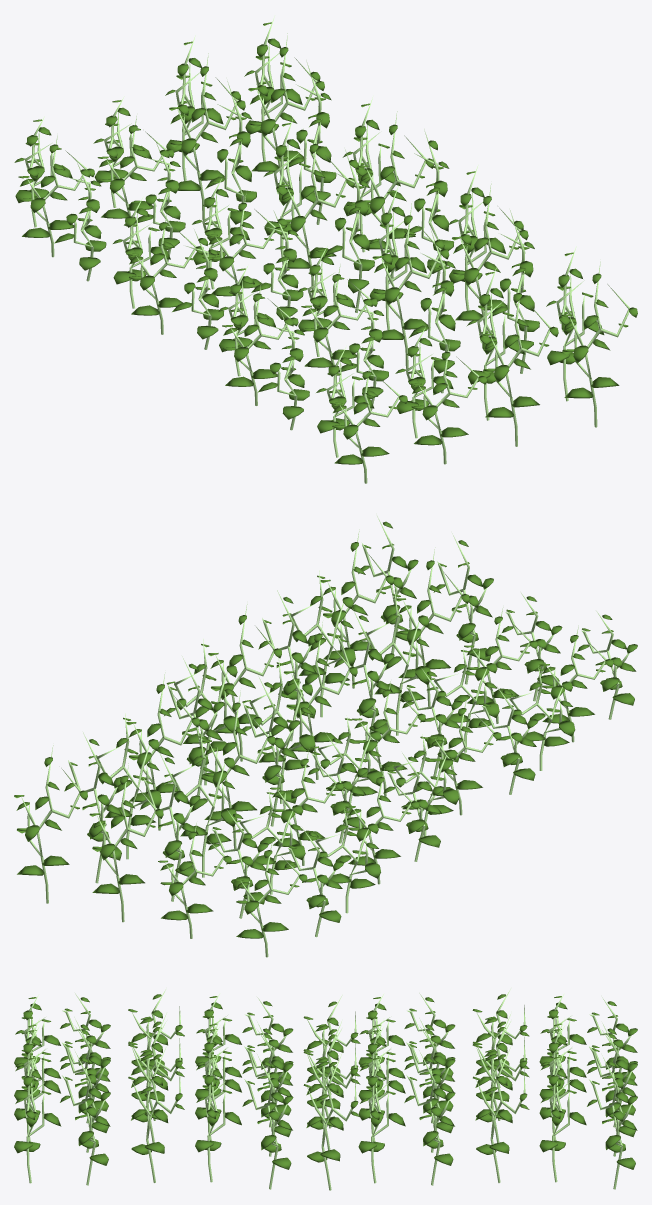
The model's file is Plants.fbx.
The picture shows the model from 3 angles, top to bottom: view 1: azimuth 30°, elevation 25°; view 2: azimuth 150°, elevation 25°; view 3: azimuth 270°, elevation 25°; orthographic projection. The views are drawn at different scales.
Visible parts, largest first — view 1: Greenhouse_PlantBox.007; view 2: Greenhouse_PlantBox.007; view 3: Greenhouse_PlantBox.007.
Boxes of the visible parts, bbox=[...] form: Greenhouse_PlantBox.007: bbox=[14, 16, 637, 483]; Greenhouse_PlantBox.007: bbox=[14, 516, 637, 957]; Greenhouse_PlantBox.007: bbox=[14, 989, 637, 1190].
Size of the model in its own units: 126 by 62.85 by 258.
